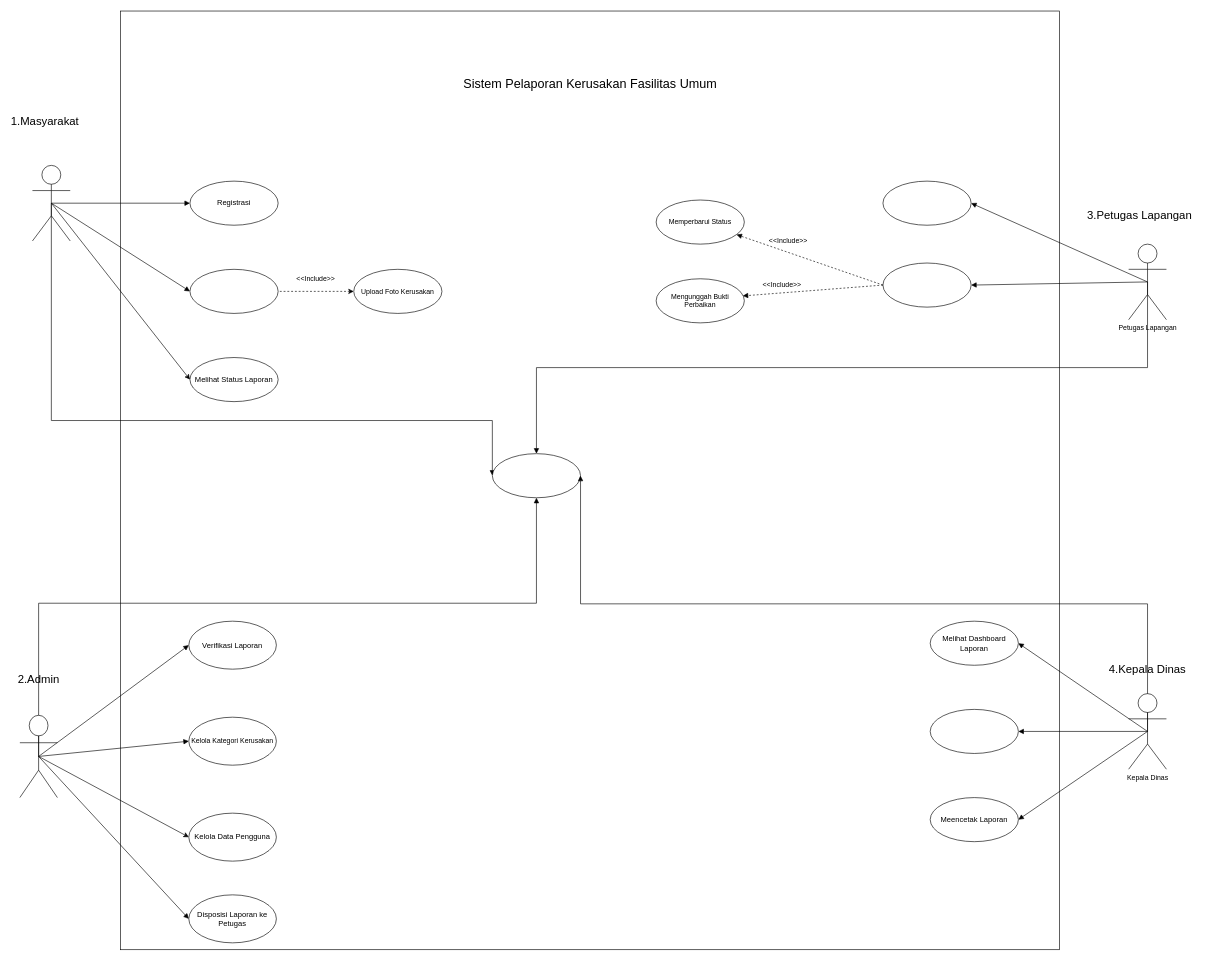
This 1228x961 diagram has some shape labels left out. The centre of each missing label's shape, as x and y in pixels:
"Admin" goes at pixel 38 756.
"Login" goes at pixel 536 475.
"Masyarakat" goes at pixel 51 203.
"Melihat Rekap Laporan" goes at pixel 974 731.
"Melihat Tugas" goes at pixel 926 202.
"Membuat Laporan" goes at pixel 233 291.
"Memproses Perbaikan" goes at pixel 926 284.
